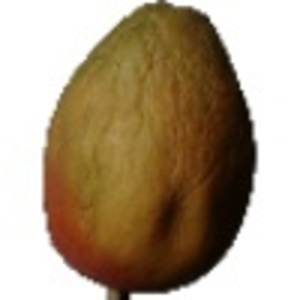mamão: (30, 1, 268, 296)
